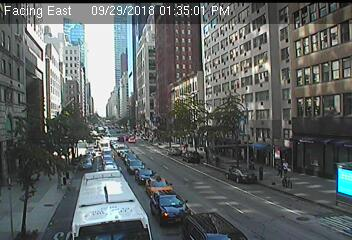car: (70, 171, 151, 240), (182, 212, 247, 240), (149, 190, 192, 225), (145, 177, 175, 198), (225, 167, 257, 185), (125, 159, 147, 174), (135, 168, 155, 184), (182, 151, 200, 163), (102, 165, 119, 176), (123, 153, 139, 164), (167, 147, 182, 157), (79, 158, 91, 168), (101, 155, 113, 164), (82, 153, 93, 161)
